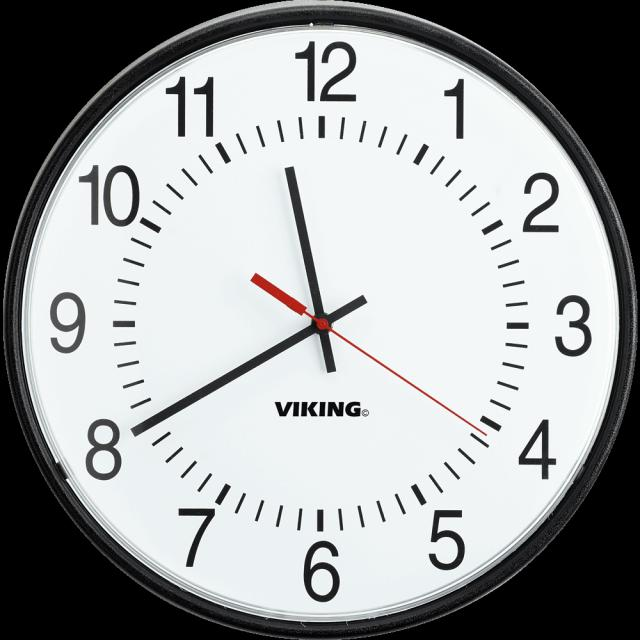clock: (0, 0, 602, 631)
